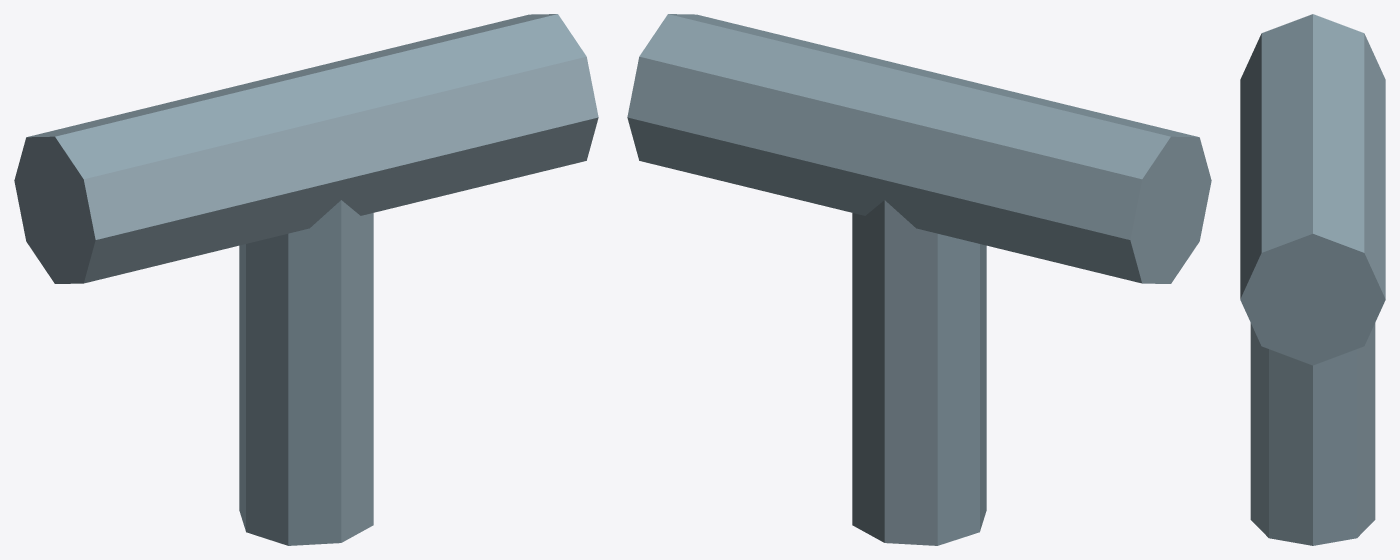
The model's file is N05_Tee.fbx.
3 views of the same model, side by side, from view 1: azimuth 30°, elevation 25°; view 2: azimuth 150°, elevation 25°; view 3: azimuth 270°, elevation 25° (orthographic). The views are drawn at different scales.
Parts seen in each view (by area): view 1: N05_Tee.010; view 2: N05_Tee.010; view 3: N05_Tee.010.
Part boxes in pixels (x1,y1,x2,y2): N05_Tee.010: (14,14,598,545); N05_Tee.010: (627,14,1211,545); N05_Tee.010: (1240,14,1385,545).
Size of the model in its own units: 0.5 by 0.42 by 0.14.
